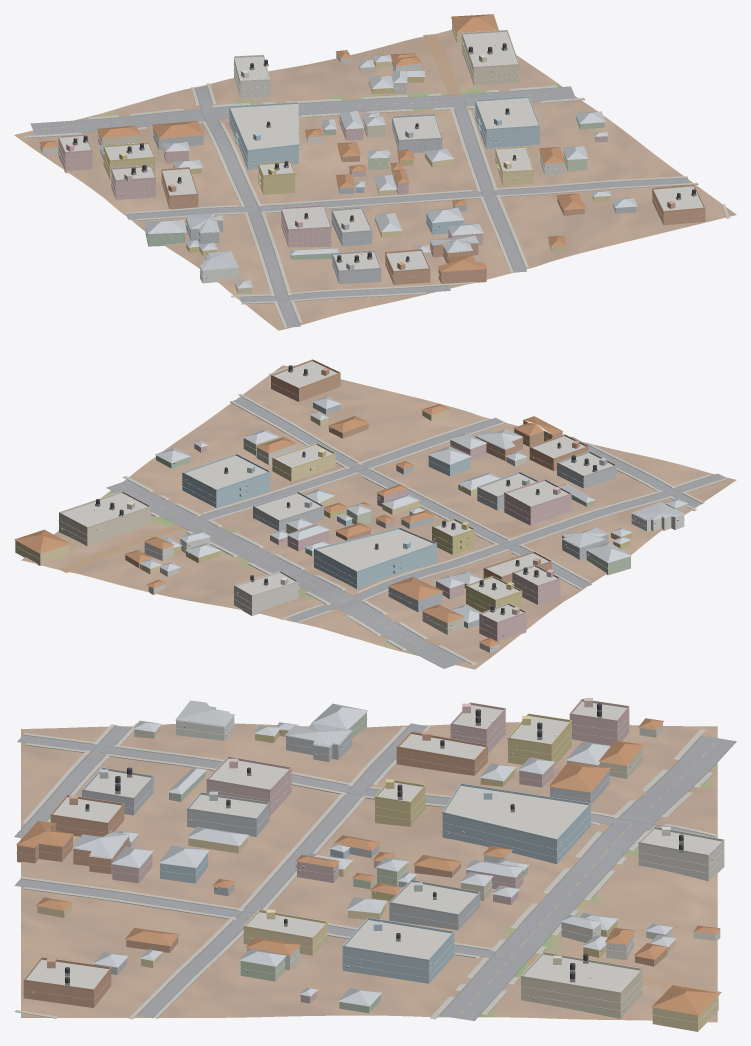
3 views of the same model, one above another, from view 1: azimuth 30°, elevation 25°; view 2: azimuth 150°, elevation 25°; view 3: azimuth 270°, elevation 25° (orthographic). The views are drawn at different scales.
Parts seen in each view (by area): view 1: Terrain-col, Buildings-col, Roads-col, Details, Sidewalks-col; view 2: Buildings-col, Terrain-col, Roads-col, Details, Sidewalks-col; view 3: Terrain-col, Buildings-col, Roads-col, Details, Sidewalks-col.
Part boxes in pixels (<box>): Terrain-col: <box>14,29,736,330</box>; Buildings-col: <box>39,14,705,293</box>; Roads-col: <box>30,34,689,327</box>; Details: <box>40,23,705,279</box>; Sidewalks-col: <box>24,83,729,327</box>; Buildings-col: <box>14,361,688,652</box>; Terrain-col: <box>21,365,736,669</box>; Roads-col: <box>58,397,725,668</box>; Details: <box>15,359,684,648</box>; Sidewalks-col: <box>112,365,728,664</box>; Terrain-col: <box>21,722,717,1022</box>; Buildings-col: <box>16,700,724,1031</box>; Roads-col: <box>14,723,736,1020</box>; Details: <box>16,698,724,1023</box>; Sidewalks-col: <box>14,723,718,1019</box>.
Bounding box in the file's own units: 271 × 15.95 × 266.
